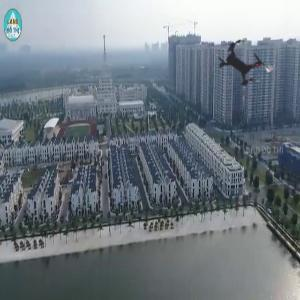drone: (201, 20, 288, 107)
